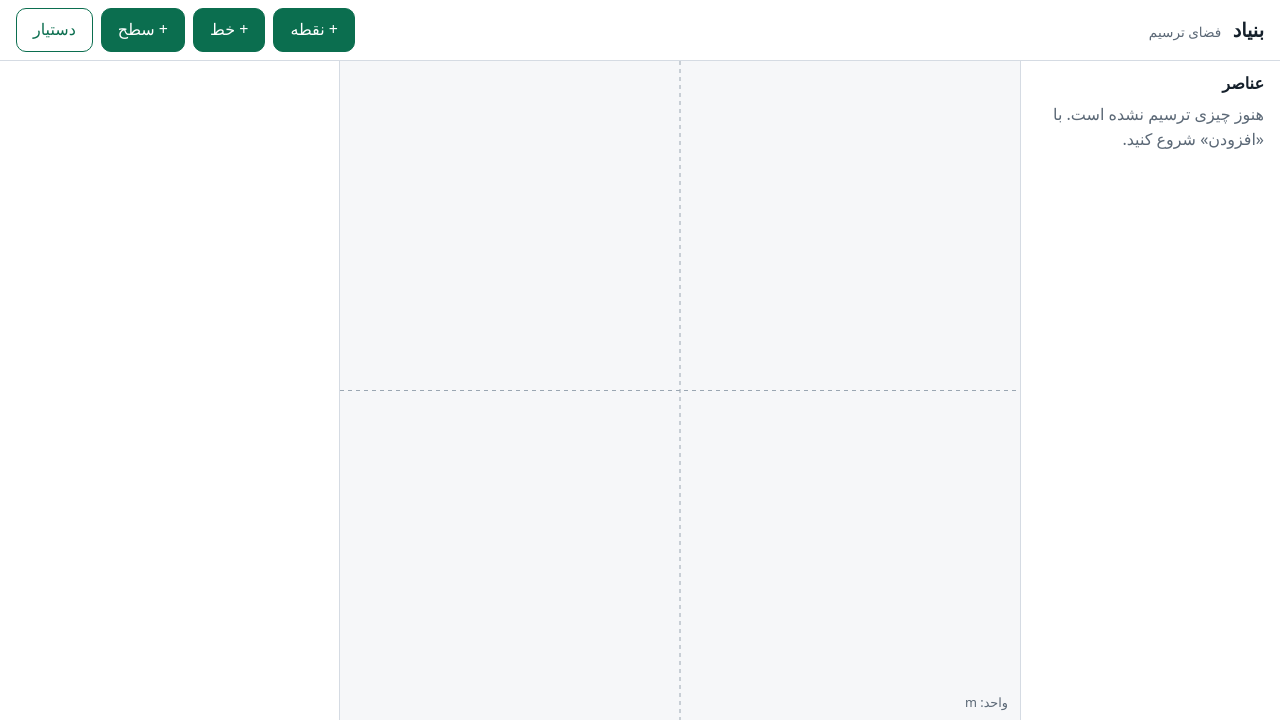
Test case: assistant panel › streams text and tool progress, and the drawing updates without a manual refresh
Expected: the text "هنوز چیزی ترسیم نشده است. با «افزودن» شروع کنید." is shown, [1037, 102, 1264, 153]
Click the button "دستیار" at coordinates (54, 30), box [16, 8, 93, 52]
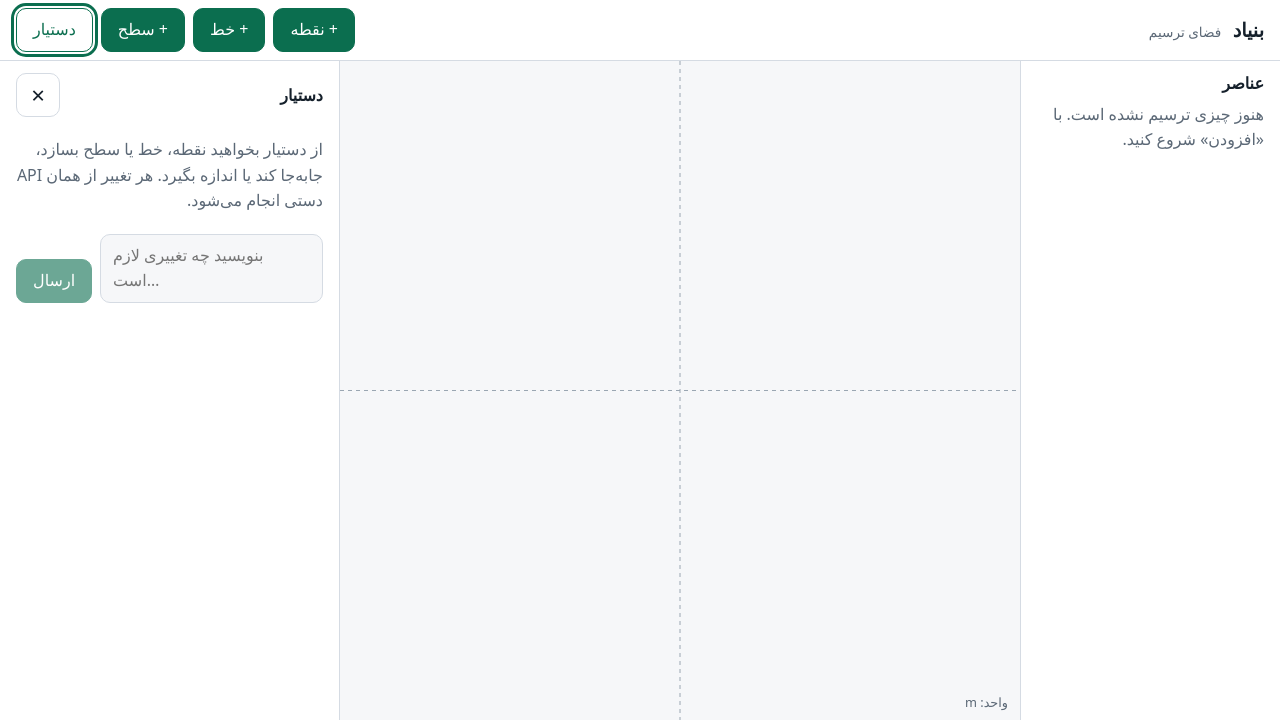
Type "add a point and measure" into the text box at coordinates (212, 268), box [100, 234, 323, 303]
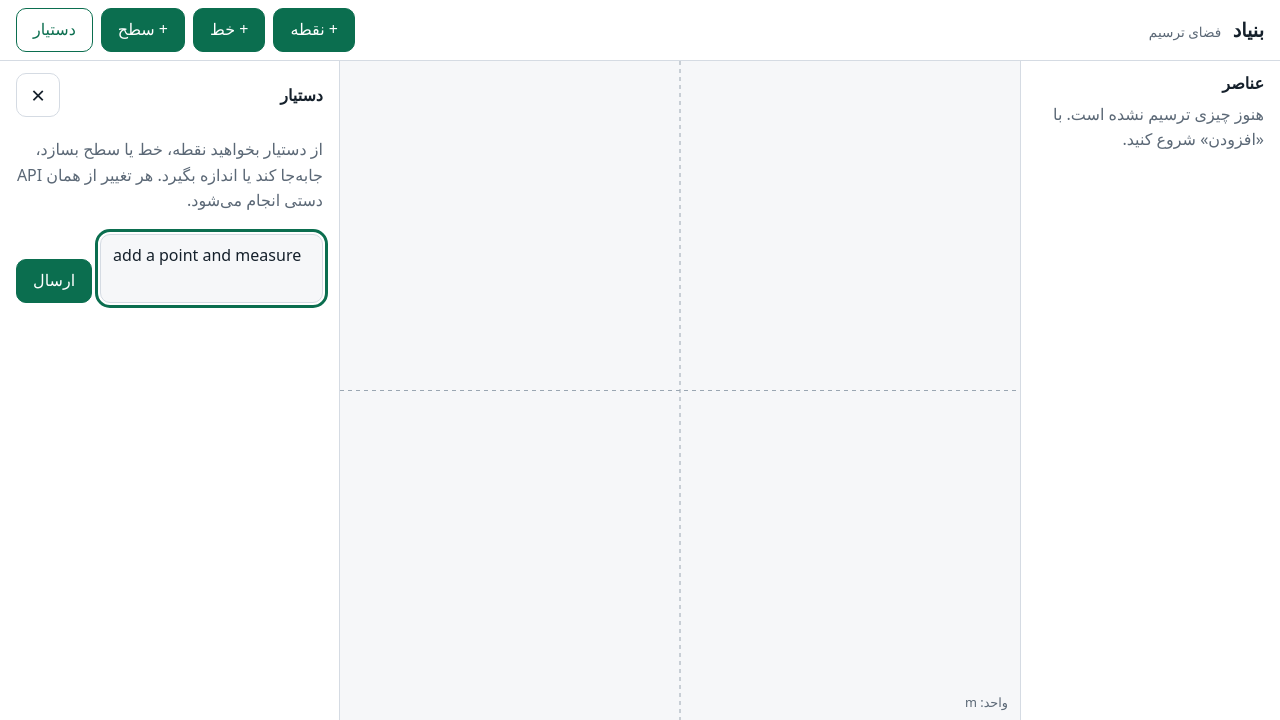
Click the button "ارسال" at coordinates (54, 281), box [16, 259, 92, 303]
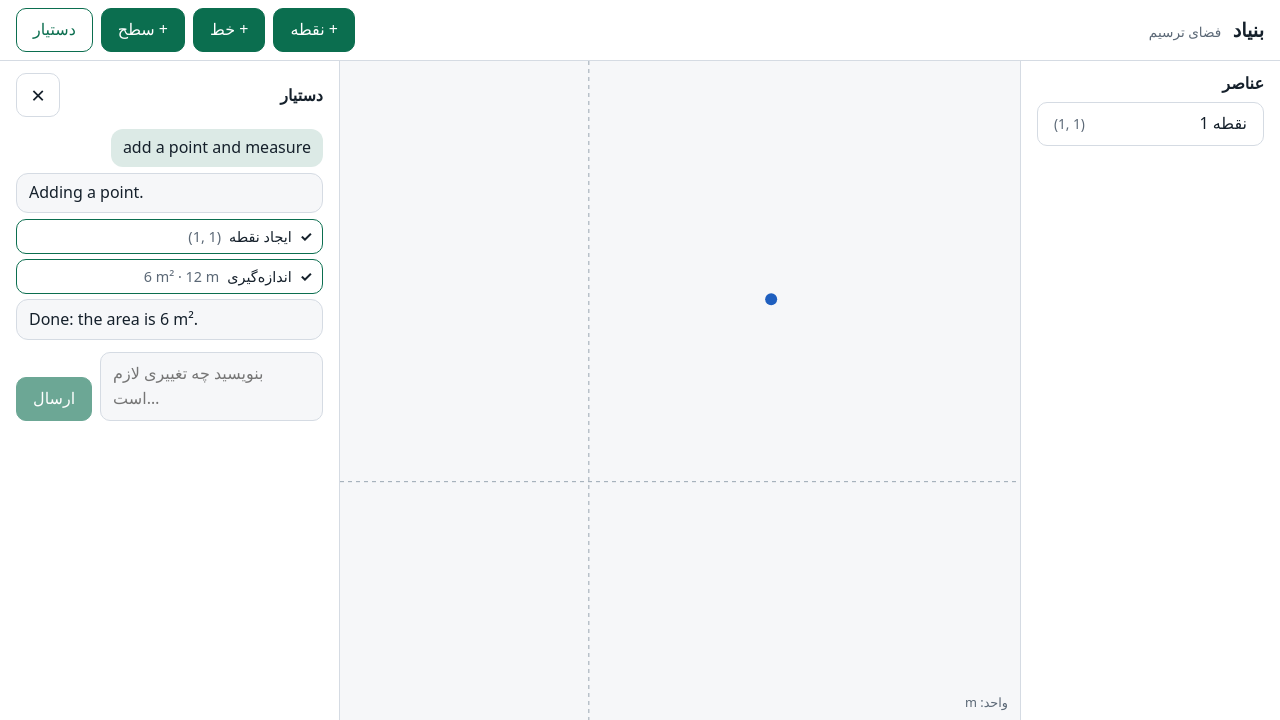
Expected: the text "Done: the area is 6 m²." is shown, [16, 299, 323, 340]
Expected: the text "ایجاد نقطه" is shown, [229, 225, 292, 248]
Expected: the text "6 m² · 12 m" is shown, [144, 265, 219, 288]
